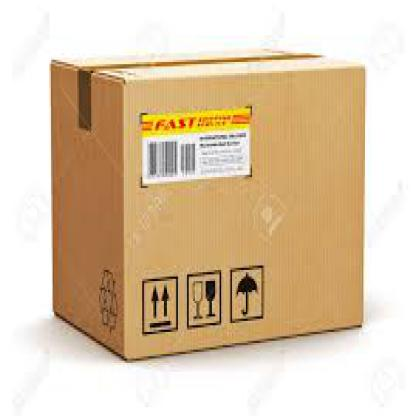paquete: (43, 35, 370, 356)
